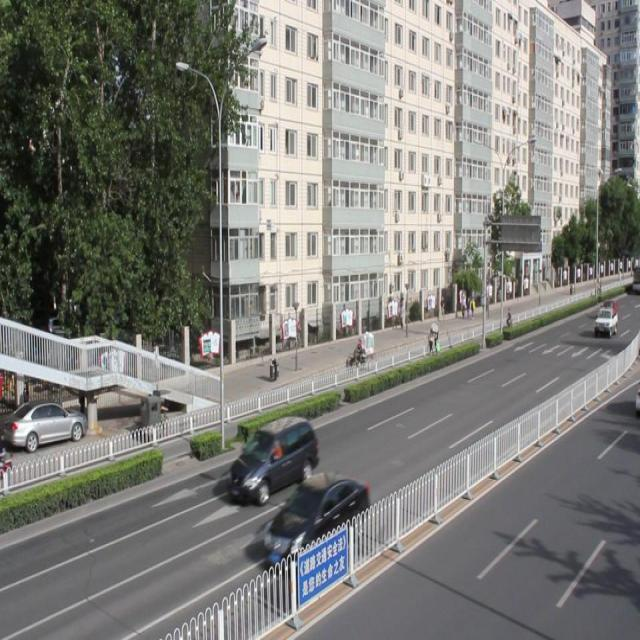car: (263, 473, 368, 569), (228, 413, 316, 501)
